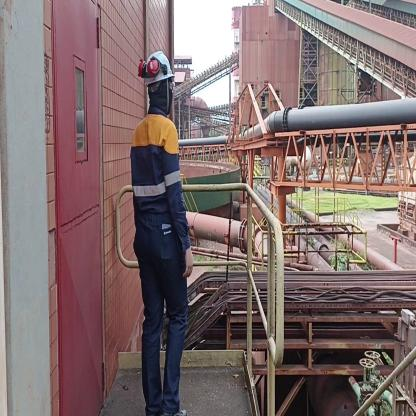Balaclava: (148, 83, 172, 116)
Capacete: (138, 46, 176, 82)
Operacional: (130, 114, 185, 229)
